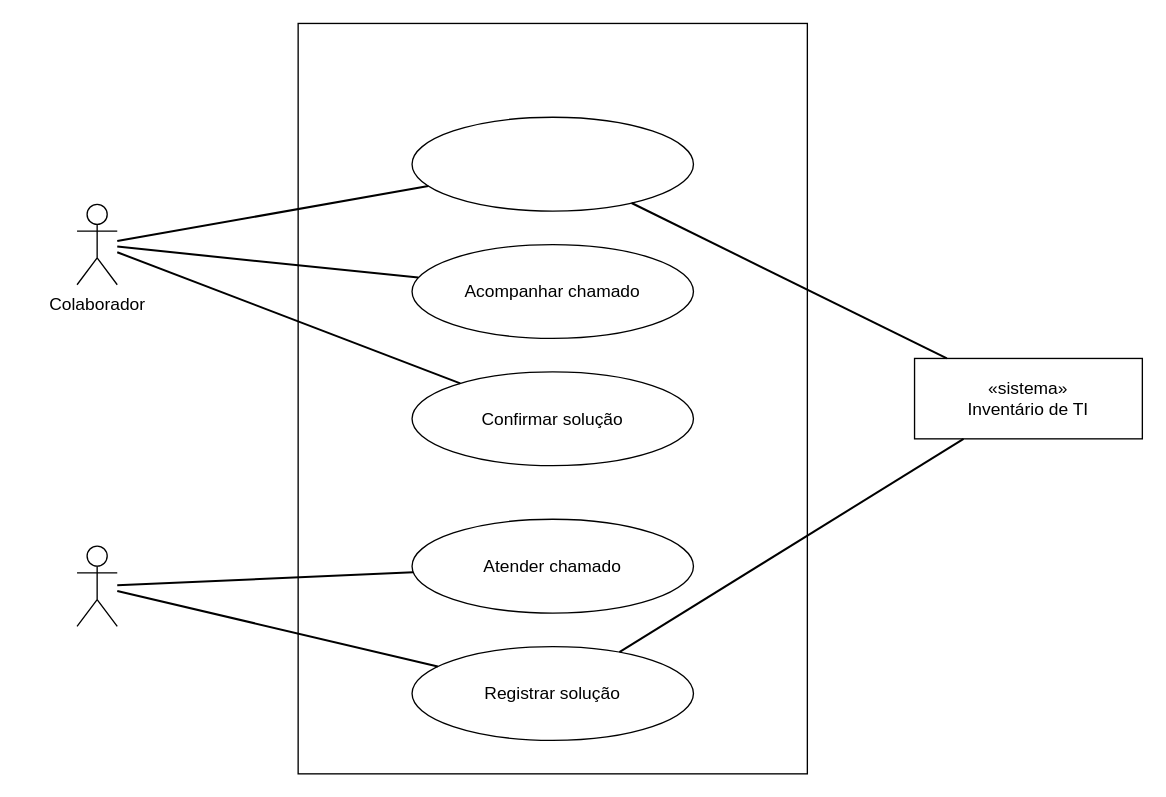
Image size: 1166x797. Some labels were removed from this diagram. Here are the shapes that lost their labels. From the top down, the box of each, then its label:
(411, 116, 693, 211): Abrir chamado
(297, 22, 807, 774): Sistema de chamados de TI
(76, 545, 117, 626): Técnico de suporte
